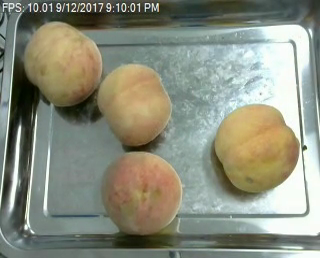Peach: (216, 104, 301, 194), (23, 21, 103, 107), (101, 150, 182, 234), (98, 63, 172, 146)
